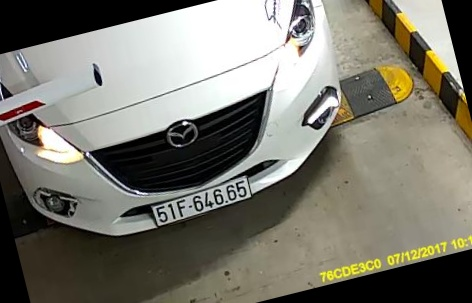plate: (143, 168, 269, 232)
